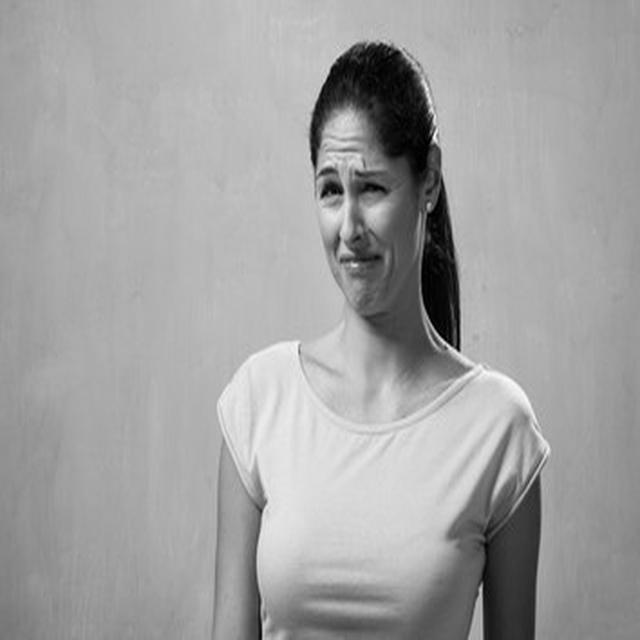Disgust: (315, 111, 419, 315)
